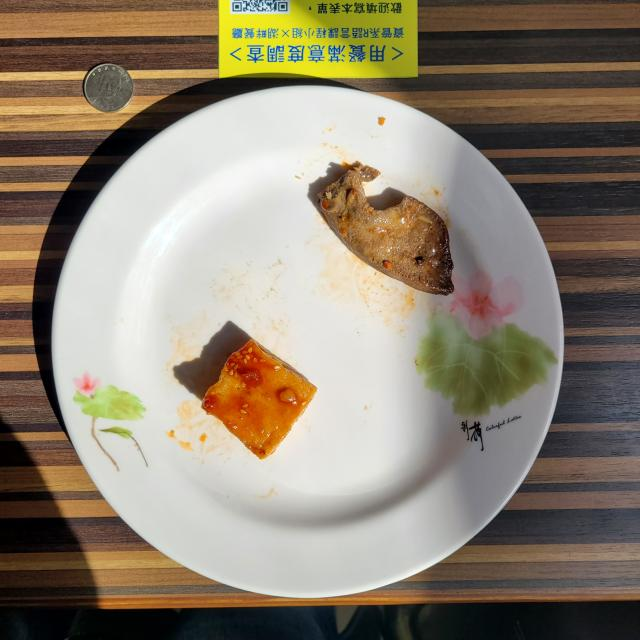coin: (84, 64, 134, 112)
creamy tofu: (201, 340, 316, 459)
pig liver: (318, 162, 454, 295)
